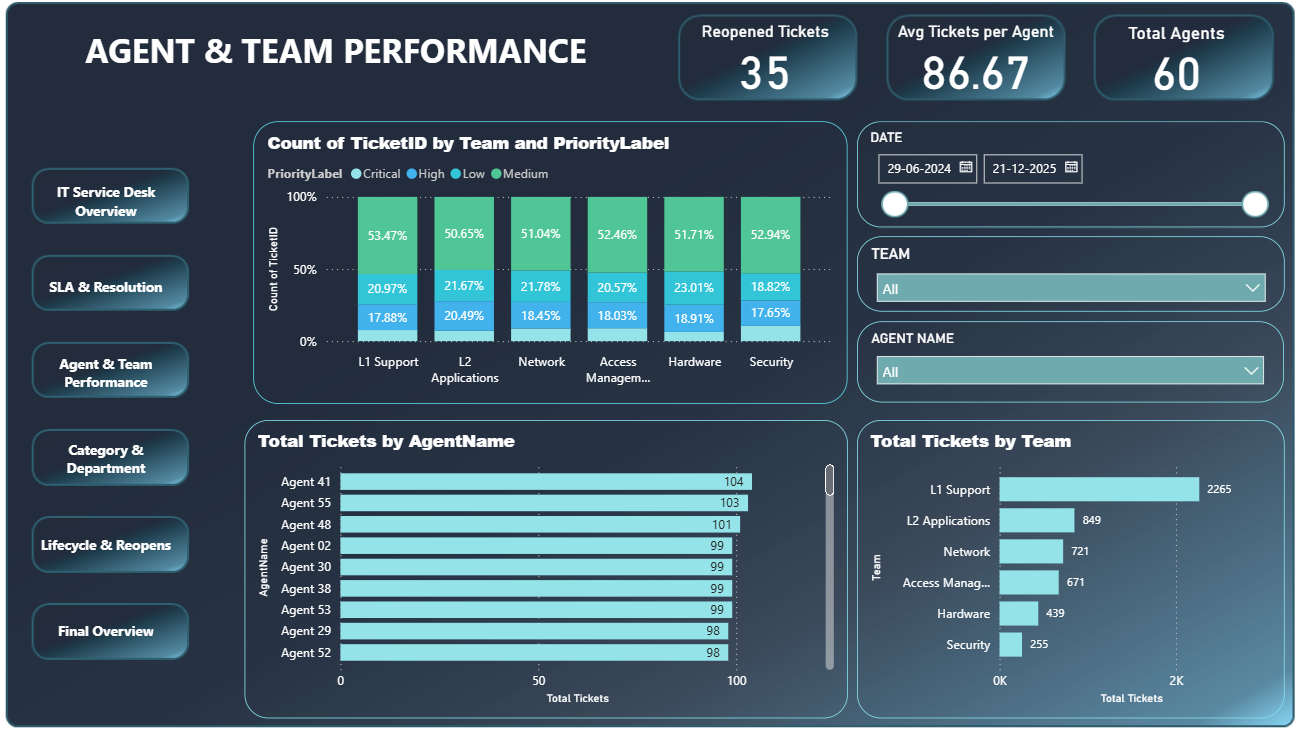

Layout of this report page (visuals, bound fields, positions):
{"tool":"powerbi","page":{"name":"Agent & Team Performance","canvas":[1280,720],"ordinal":2},"visuals":[{"type":"barChart","fields":{"Category":["Agents.AgentName"],"Y":["Tickets.Total Tickets"]},"box":[253.6,415.5,582.1,288.1],"z":0},{"type":"barChart","fields":{"Category":["Agents.Team"],"Y":["Measure Table.Total Tickets"]},"box":[844.1,415.5,413.1,288.1],"z":1000},{"type":"slicer","title":"TEAM","fields":{"Values":["Agents.Team"]},"box":[844.1,238.1,413.1,72.6],"z":2000},{"type":"slicer","title":"AGENT NAME","fields":{"Values":["Agents.AgentName"]},"box":[844.1,320.2,411.9,78.6],"z":3000},{"type":"slicer","title":"DATE","fields":{"Values":["Date Table.Date"]},"box":[844.1,126.2,413.1,102.4],"z":4000},{"type":"textbox","box":[31,31,620.2,61.9],"z":5000},{"type":"card","title":"Total Agents","fields":{"Values":["Measure Table.Total Agents"]},"box":[1075,31,156,70.2],"z":6000},{"type":"card","title":"Avg Tickets per Agent","fields":{"Values":["Measure Table.Avg Tickets per Agent"]},"box":[877.4,31,164.3,70.2],"z":7000},{"type":"card","title":"Reopened Tickets","fields":{"Values":["Measure Table.Reopened Tickets"]},"box":[677.4,31,158.3,70.2],"z":8000},{"type":"hundredPercentStackedColumnChart","fields":{"Category":["Agents.Team"],"Y":["CountNonNull(Ticket_History.TicketID)"],"Series":["SLA_Definitions.PriorityLabel"]},"box":[261.9,126.2,573.8,272.6],"z":9000},{"type":"pageNavigator","box":[47.6,166.7,145.2,489.3],"z":10000}]}

Visuals, with their boxes in screenshot pixels (x1, y1, x2, y2), scaled from the page's 1280x720 canvas onto the 1296x731 screenshot:
barChart - Agents.AgentName x Tickets.Total Tickets: box(257, 422, 846, 714)
barChart - Agents.Team x Measure Table.Total Tickets: box(855, 422, 1273, 714)
"TEAM" slicer: box(855, 242, 1273, 315)
"AGENT NAME" slicer: box(855, 325, 1272, 405)
"DATE" slicer: box(855, 128, 1273, 232)
textbox: box(31, 31, 659, 94)
"Total Agents" card: box(1088, 31, 1246, 103)
"Avg Tickets per Agent" card: box(888, 31, 1055, 103)
"Reopened Tickets" card: box(686, 31, 846, 103)
hundredPercentStackedColumnChart - Agents.Team x CountNonNull(Ticket_History.TicketID): box(265, 128, 846, 405)
pageNavigator: box(48, 169, 195, 666)
